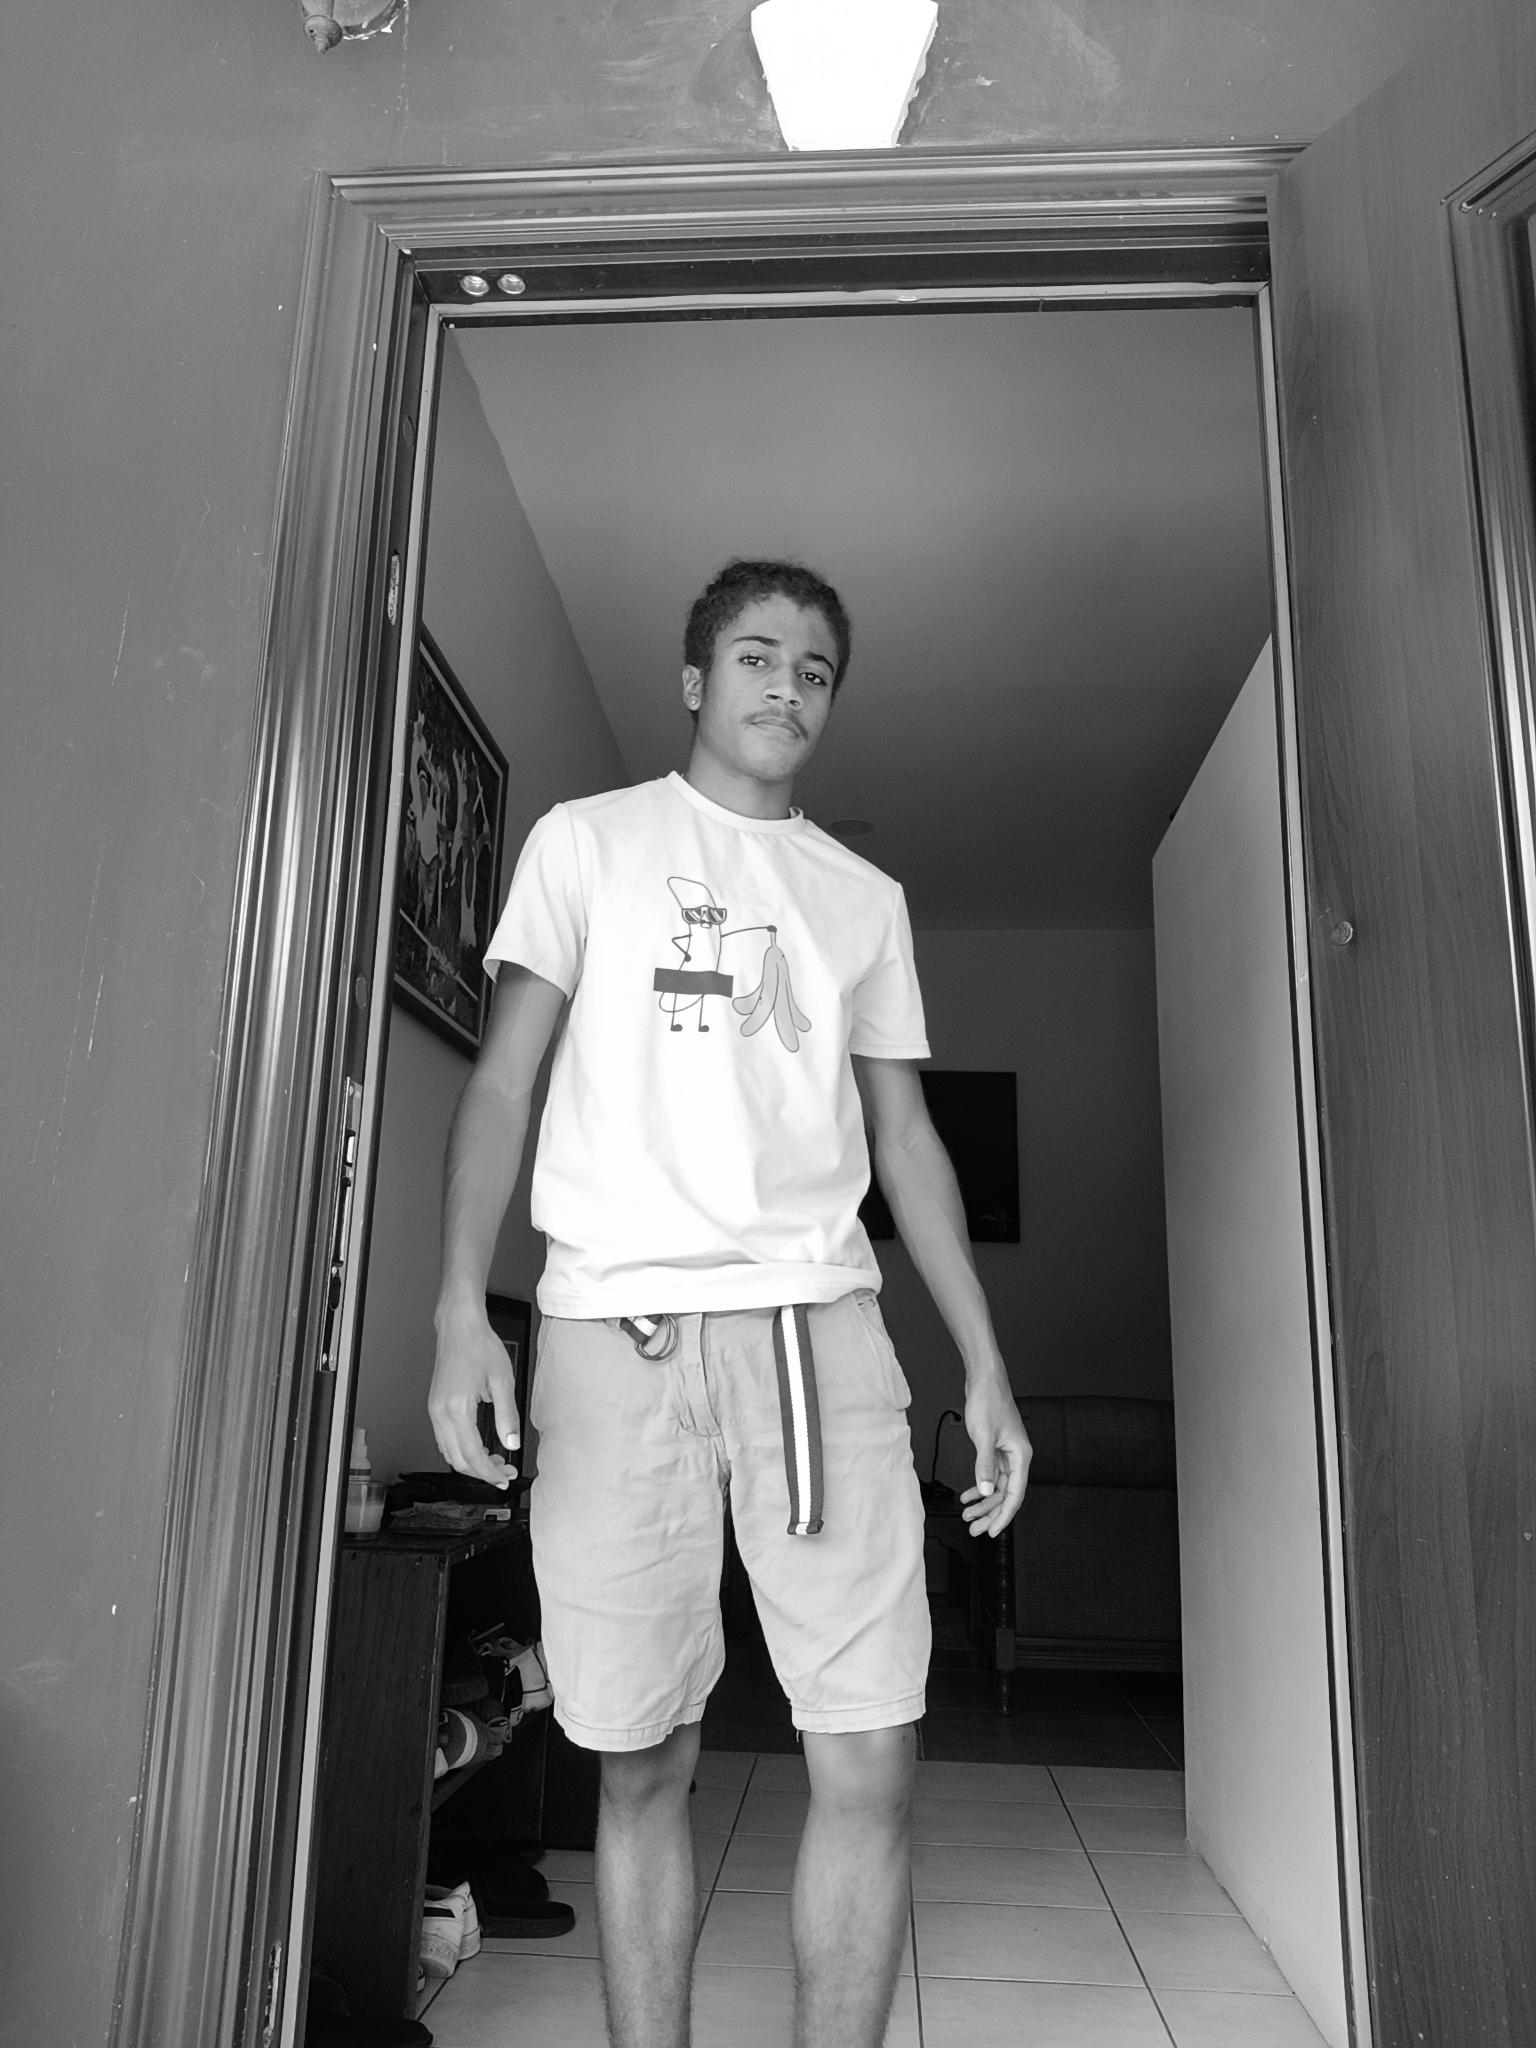front: (421, 552, 1037, 2040)
